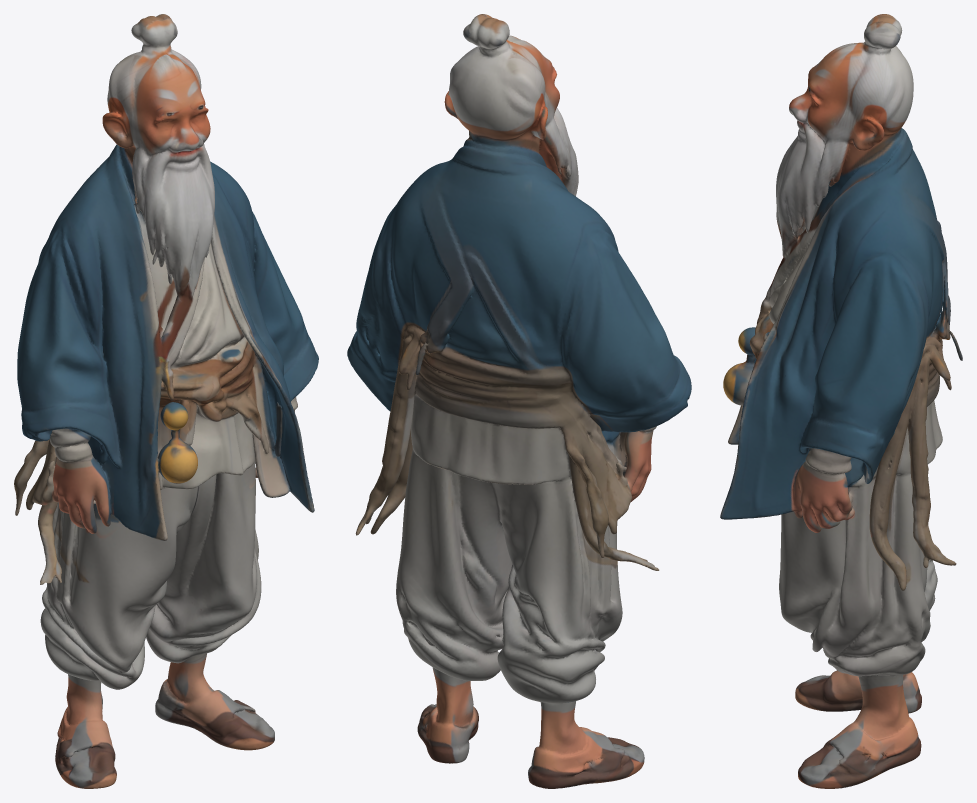
File: oldman_A_h25.glb
3 renders of one model, left to right at view 1: azimuth 30°, elevation 25°; view 2: azimuth 150°, elevation 25°; view 3: azimuth 270°, elevation 25°, orthographic. The views are drawn at different scales.
Visible parts, largest first — view 1: tripo_node_b1eb1c35-3728-4ba6-a266-a9eb2004b05e; view 2: tripo_node_b1eb1c35-3728-4ba6-a266-a9eb2004b05e; view 3: tripo_node_b1eb1c35-3728-4ba6-a266-a9eb2004b05e.
Boxes of the visible parts, bbox=[...] form: tripo_node_b1eb1c35-3728-4ba6-a266-a9eb2004b05e: bbox=[14, 14, 318, 788]; tripo_node_b1eb1c35-3728-4ba6-a266-a9eb2004b05e: bbox=[347, 14, 691, 788]; tripo_node_b1eb1c35-3728-4ba6-a266-a9eb2004b05e: bbox=[720, 14, 962, 788].
Size of the model in its own units: 0.4457 by 1 by 0.3011.
Materials: 1 (1 with a texture image).
